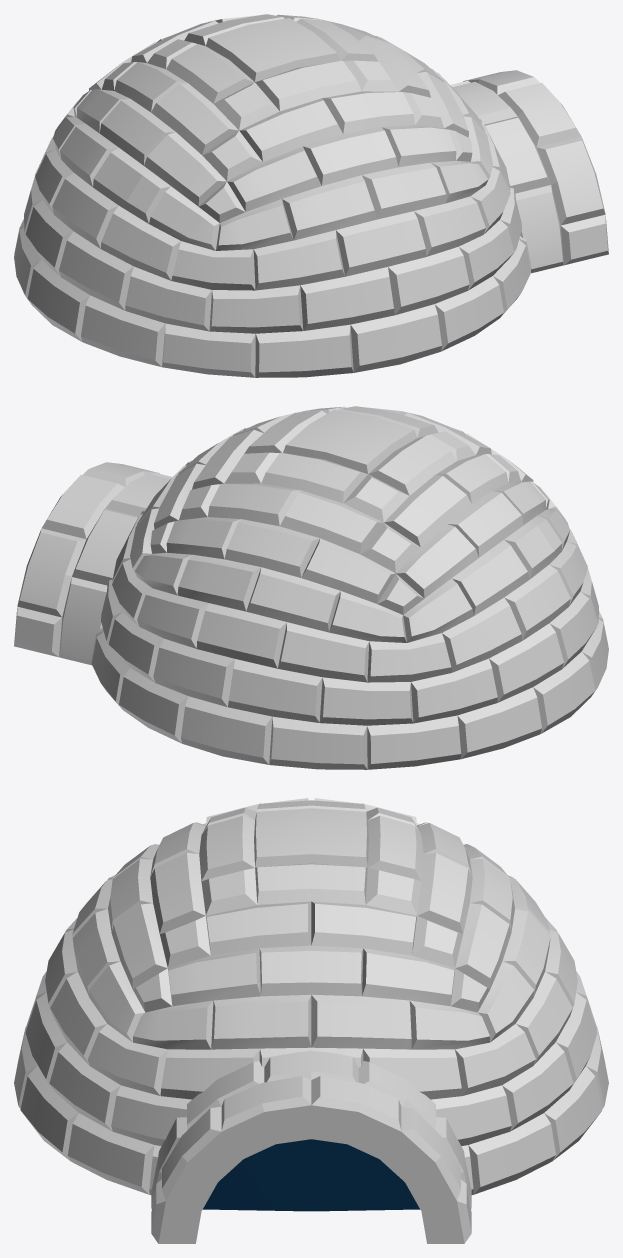
Rendered from Igloo.fbx.
3 renders of one model, top to bottom at view 1: azimuth 30°, elevation 25°; view 2: azimuth 150°, elevation 25°; view 3: azimuth 270°, elevation 25°, orthographic. The views are drawn at different scales.
Visible parts, largest first — view 1: polySurface3; view 2: polySurface3; view 3: polySurface3.
Part boxes in pixels (bbox=[...]): polySurface3: bbox=[14, 14, 608, 377]; polySurface3: bbox=[14, 406, 608, 769]; polySurface3: bbox=[14, 798, 608, 1243].
Bounding box in the file's own units: 3.28 × 1.48 × 2.99.
